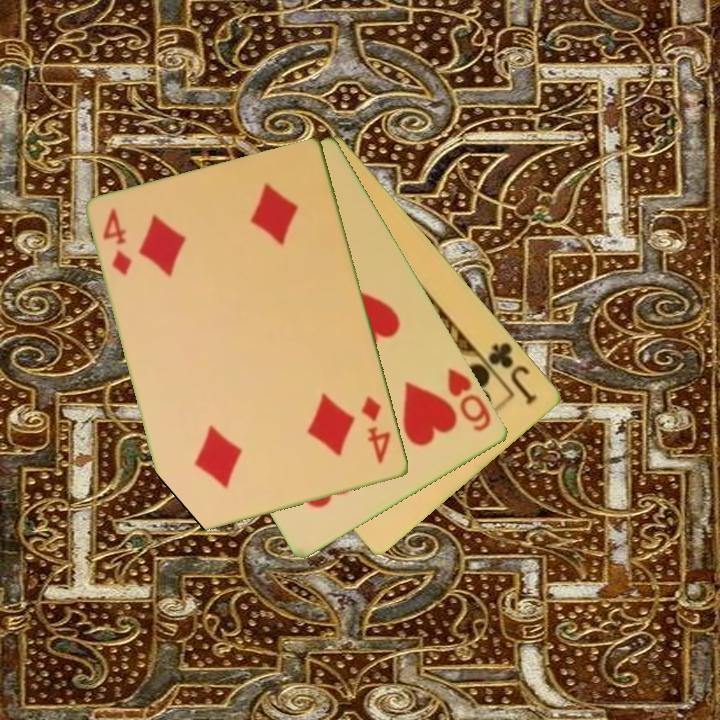4d: (358, 393, 394, 467), (100, 205, 135, 279)
6h: (444, 364, 495, 435)
Jc: (485, 338, 541, 408)
